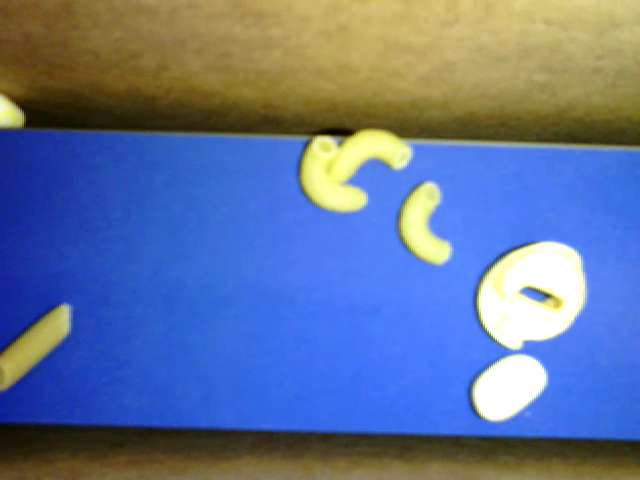elbow: (298, 136, 368, 213), (328, 128, 412, 184), (399, 181, 453, 264)
penne: (1, 302, 71, 389)
tortellini: (476, 238, 587, 351)
